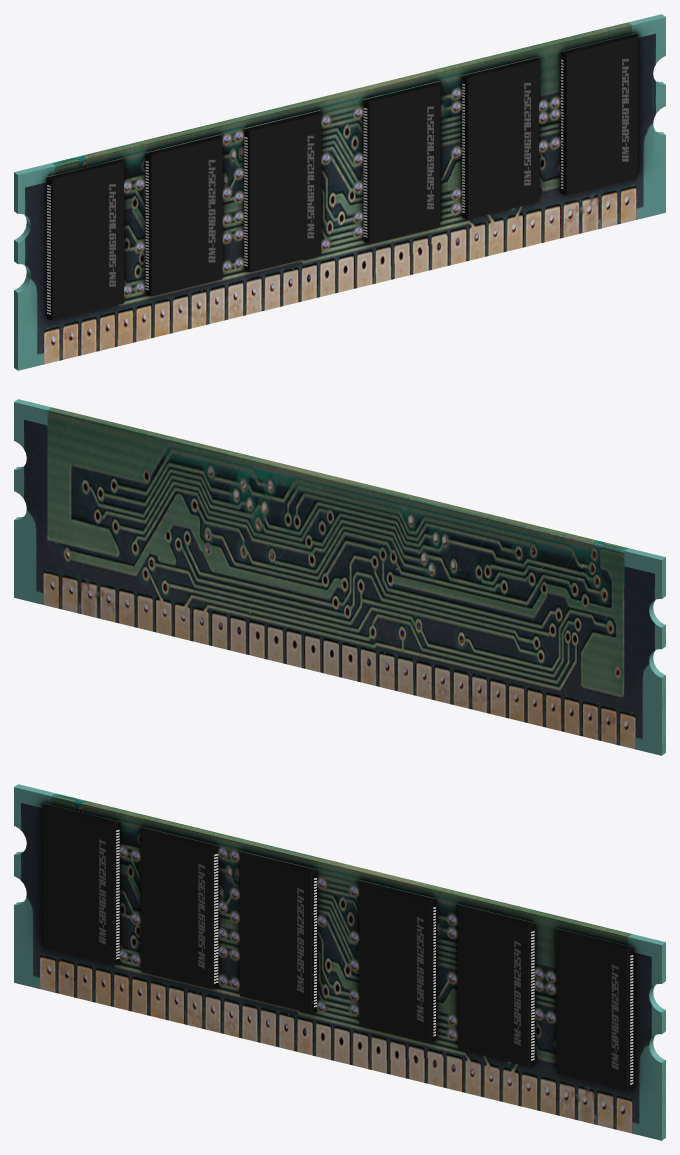
Rendered from ram.dae.
3 views of the same model, one above another, from view 1: azimuth 30°, elevation 25°; view 2: azimuth 150°, elevation 25°; view 3: azimuth 330°, elevation 25° (orthographic).
Visible parts, largest first — view 1: ram; view 2: ram; view 3: ram.
Part boxes in pixels (x1,y1,x2,y2): ram: [14, 14, 665, 370]; ram: [14, 399, 665, 755]; ram: [14, 784, 665, 1140].
Size of the model in its own units: 2 by 0.0385 by 0.5759.
Materials: 1 (1 with a texture image).
